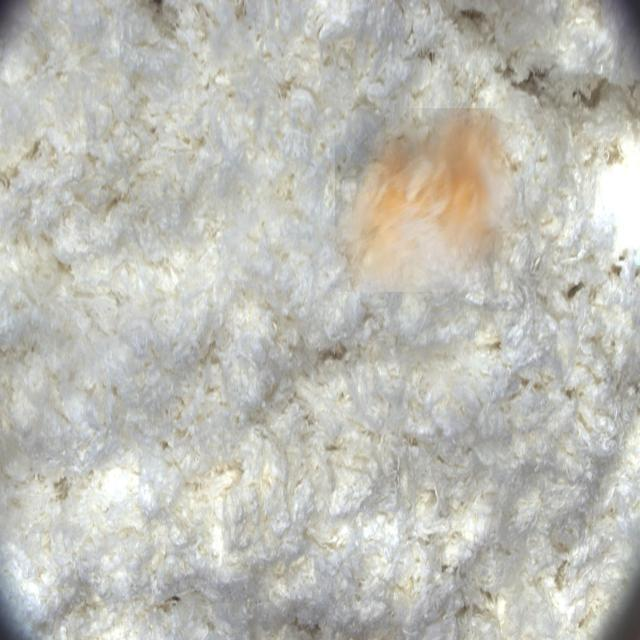dust: (335, 108, 518, 292)
